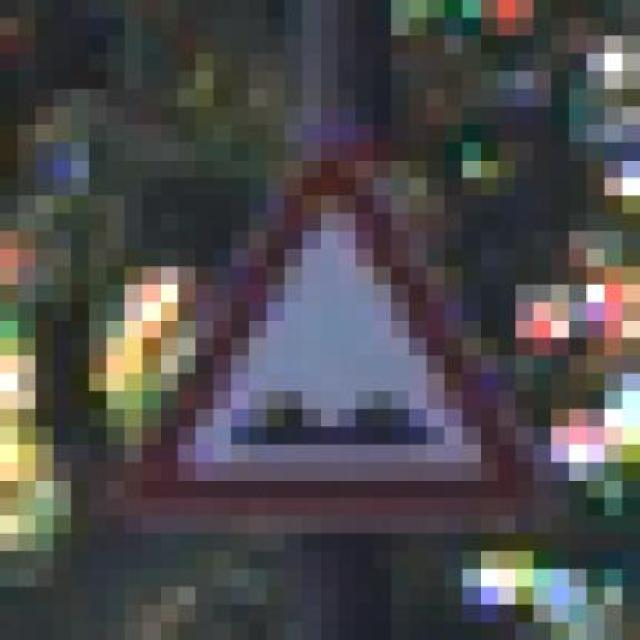Uneven Road: (89, 107, 533, 551)
